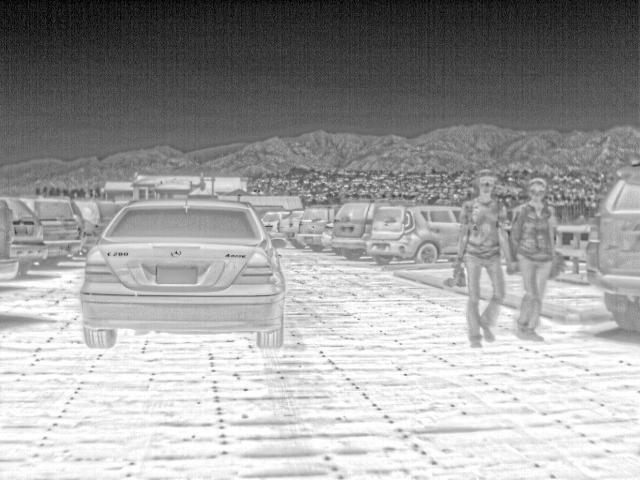car: (78, 198, 286, 350), (580, 162, 636, 337), (364, 203, 466, 267), (22, 197, 77, 267), (330, 202, 385, 262), (5, 197, 48, 261), (291, 205, 339, 254), (0, 198, 22, 283), (76, 196, 123, 228), (261, 209, 292, 250), (75, 213, 105, 253), (277, 208, 304, 250)
person: (507, 176, 559, 344), (463, 172, 507, 348)
